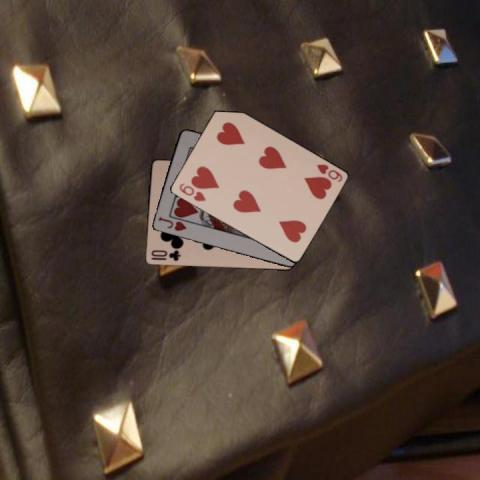10c: (148, 247, 181, 262)
6h: (176, 180, 207, 203), (314, 162, 344, 184)
Jh: (155, 214, 188, 233)
